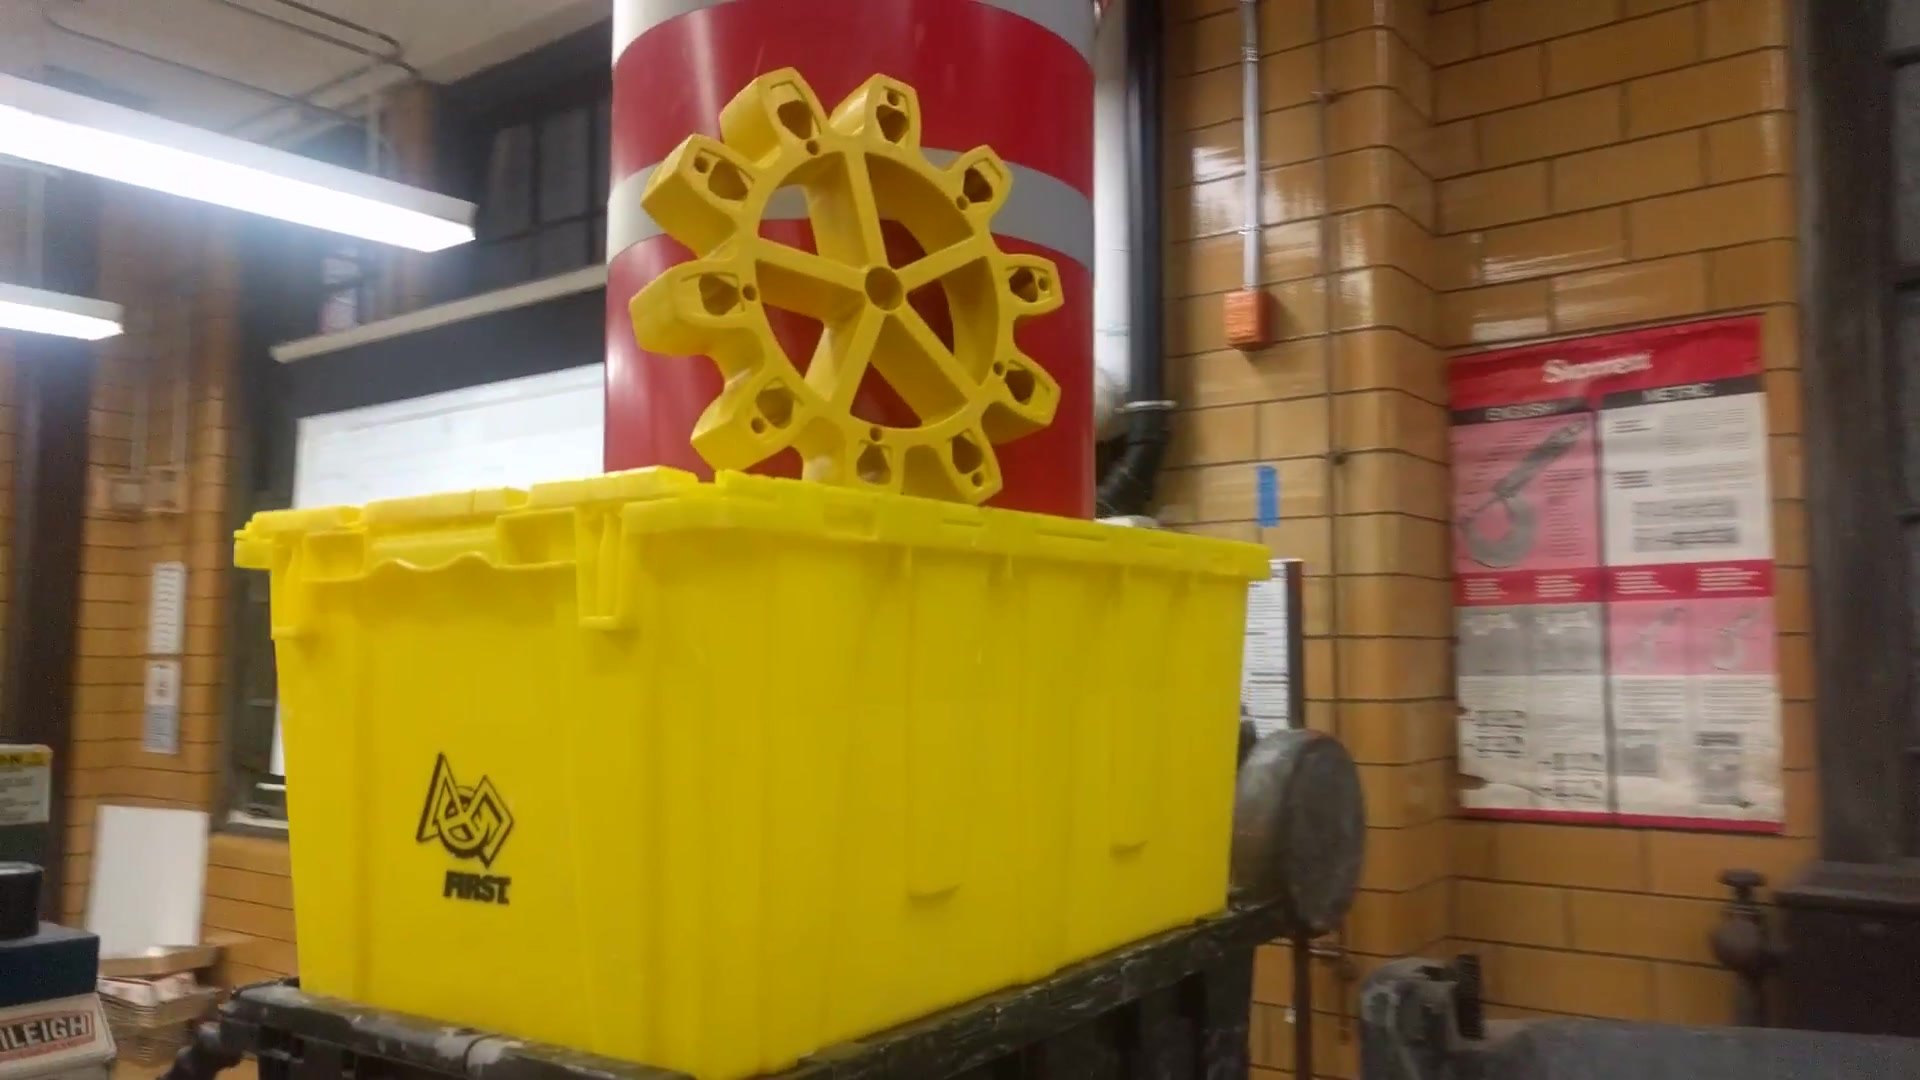gear: (605, 38, 1079, 564)
